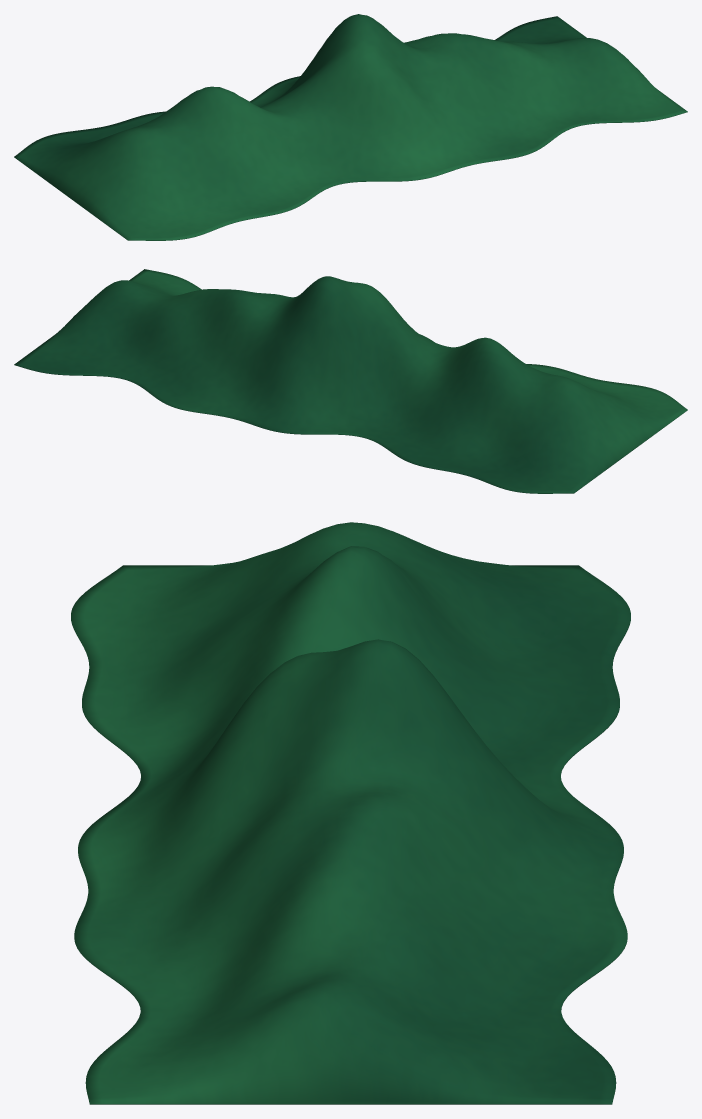
File: mountain_near_A_v3.glb
The picture shows the model from 3 angles, top to bottom: view 1: azimuth 30°, elevation 25°; view 2: azimuth 150°, elevation 25°; view 3: azimuth 270°, elevation 25°; orthographic projection. The views are drawn at different scales.
Visible parts, largest first — view 1: mountain_near_A_v3; view 2: mountain_near_A_v3; view 3: mountain_near_A_v3.
Boxes of the visible parts, <box> form: mountain_near_A_v3: <box>14,14,687,240</box>; mountain_near_A_v3: <box>14,269,687,493</box>; mountain_near_A_v3: <box>71,522,630,1104</box>.
Bounding box in the file's own units: 48 × 8.85 × 21.11.
1 material, 1 textured.
